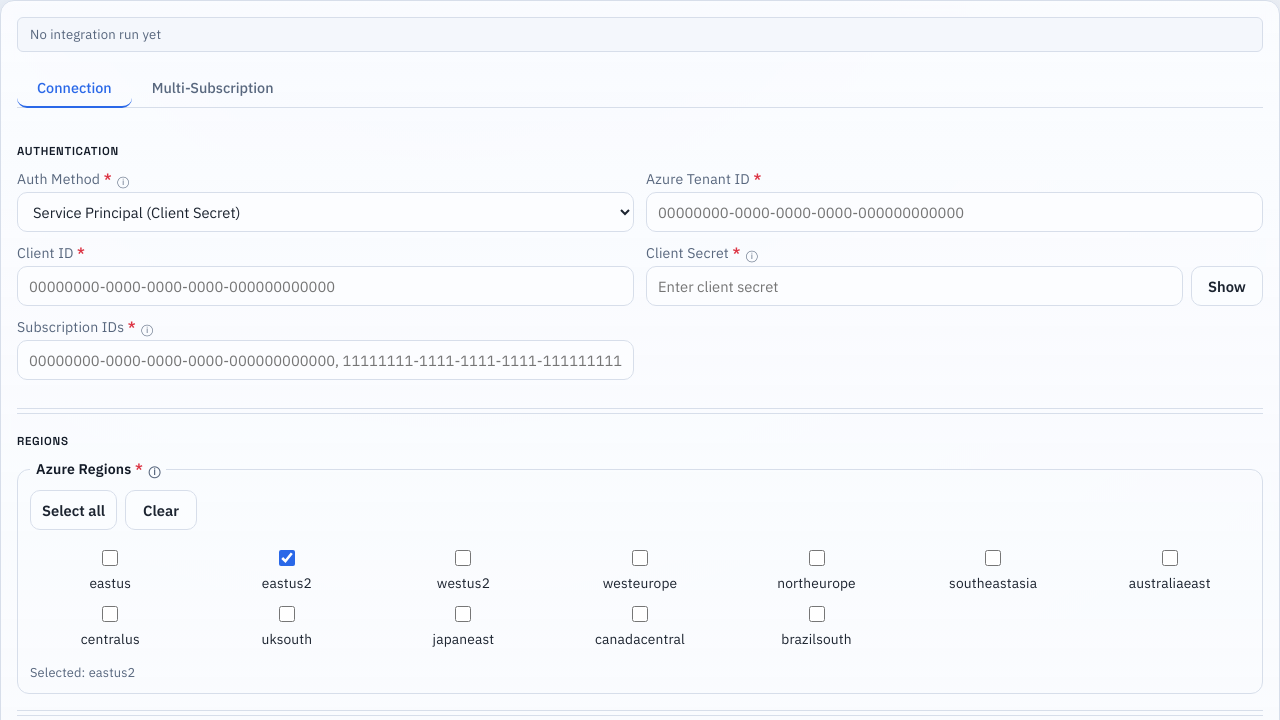
Test case: AzureDiscoveryConnectorPage › renders subscription targets on the Multi-Subscription tab
Click the button "Multi-Subscription" at (213, 88), box [132,68,294,108]
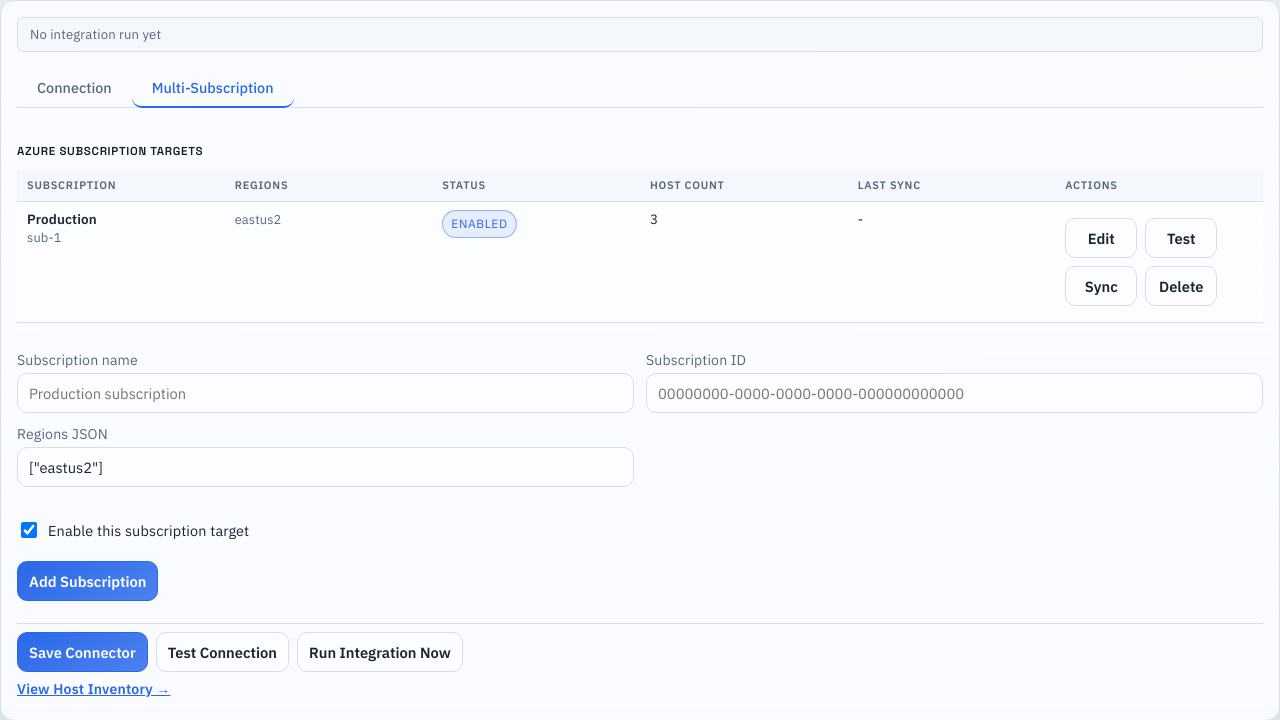
Now the text "Production" is shown, box [27,210,97,228]
Now the text "sub-1" is shown, box [27,229,62,246]
